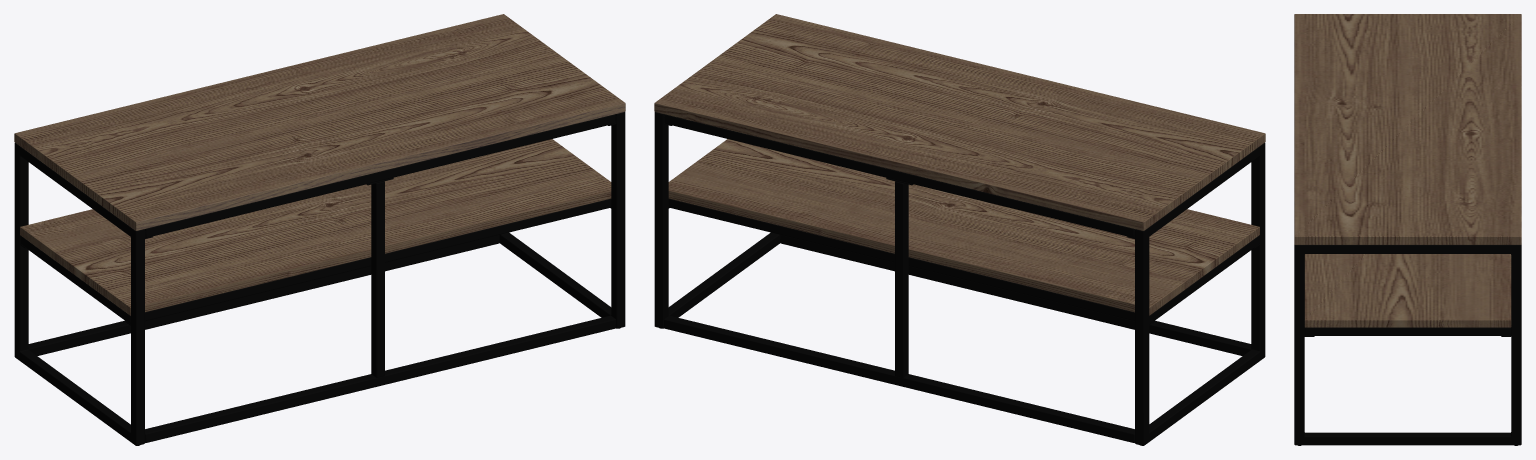
File: LRFY7375_v6_LOD2.obj
3 views of the same model, side by side, from view 1: azimuth 30°, elevation 25°; view 2: azimuth 150°, elevation 25°; view 3: azimuth 270°, elevation 25° (orthographic). The views are drawn at different scales.
Visible parts, largest first — view 1: not_clear_obj_0_v6, not_clear_obj_2_v6, not_clear_obj_1_v6; view 2: not_clear_obj_0_v6, not_clear_obj_2_v6; view 3: not_clear_obj_0_v6, not_clear_obj_2_v6.
Part boxes in pixels (x1=…): not_clear_obj_0_v6: x1=14, y1=14, x2=625, y2=315; not_clear_obj_2_v6: x1=14, y1=112, x2=625, y2=445; not_clear_obj_1_v6: x1=136, y1=103, x2=625, y2=230; not_clear_obj_0_v6: x1=654, y1=14, x2=1265, y2=315; not_clear_obj_2_v6: x1=654, y1=112, x2=1265, y2=445; not_clear_obj_0_v6: x1=1294, y1=14, x2=1521, y2=327; not_clear_obj_2_v6: x1=1294, y1=245, x2=1521, y2=445.
Size of what is drawn, in the model's own units: 107 by 46.99 by 45.97.
Materials: 3 (2 with a texture image).
